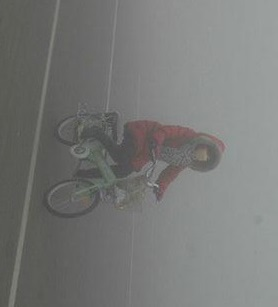person: (79, 116, 225, 200)
